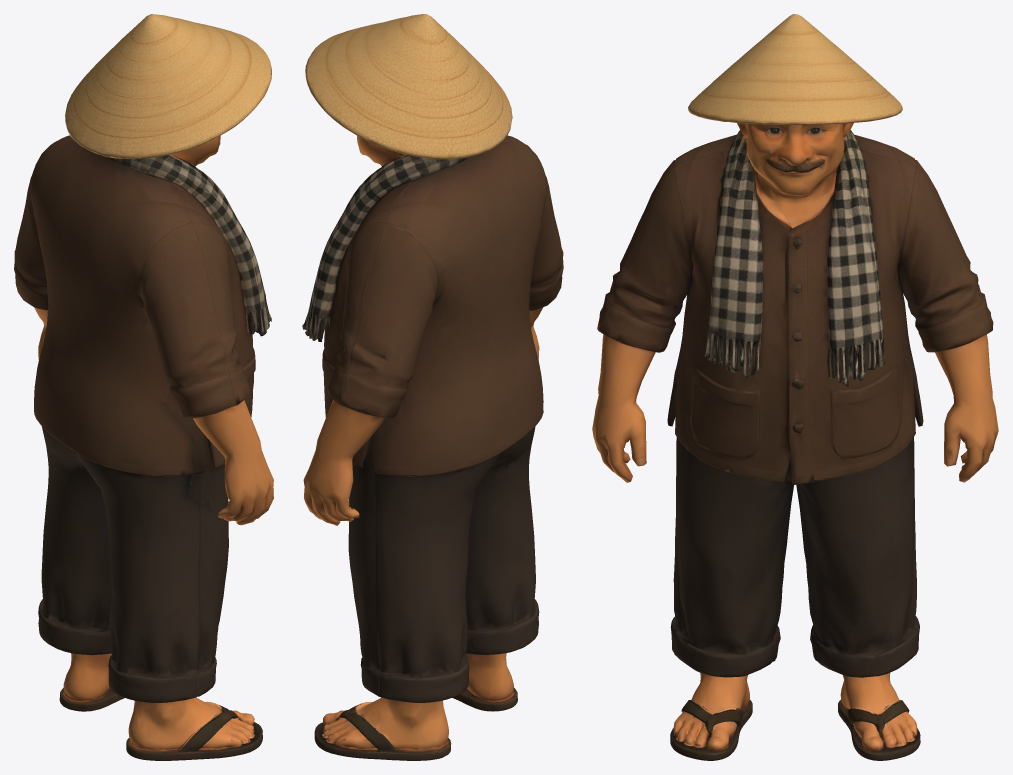
File: HaiLuaNPC.glb
The picture shows the model from 3 angles, left to right: view 1: azimuth 30°, elevation 25°; view 2: azimuth 150°, elevation 25°; view 3: azimuth 270°, elevation 25°; orthographic projection.
Visible parts, largest first — view 1: tripo_node_e62381f3-ead2-47c9-9361-5cbcccefc24d; view 2: tripo_node_e62381f3-ead2-47c9-9361-5cbcccefc24d; view 3: tripo_node_e62381f3-ead2-47c9-9361-5cbcccefc24d.
Part boxes in pixels (x1,y1,x2,y2): tripo_node_e62381f3-ead2-47c9-9361-5cbcccefc24d: (14,14,273,760); tripo_node_e62381f3-ead2-47c9-9361-5cbcccefc24d: (302,14,563,760); tripo_node_e62381f3-ead2-47c9-9361-5cbcccefc24d: (592,14,998,760).
Size of the model in its own units: 0.29 by 0.9799 by 0.5046.
1 material, 1 textured.
